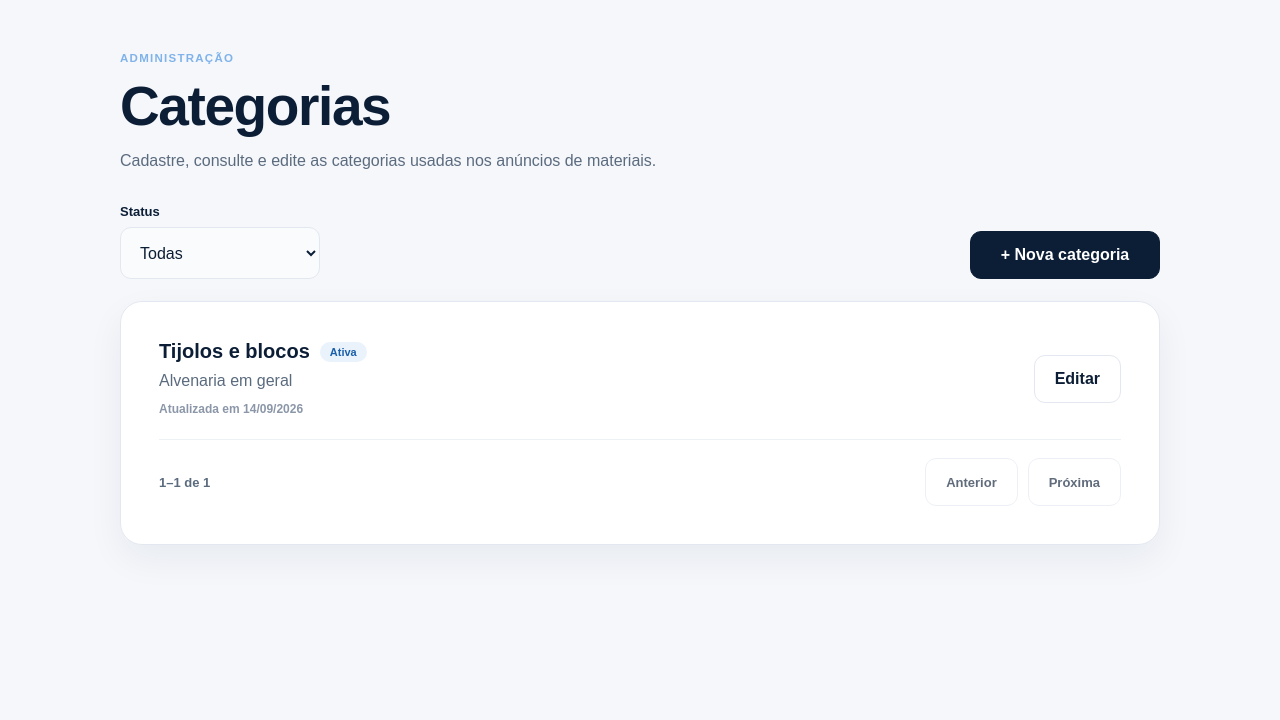
Test: CategoriasPage › edita enviando somente os campos alterados
Expected: the heading "Tijolos e blocos" is shown, [159, 340, 310, 363]
Click the button with aria-label "Editar Tijolos e blocos". click: (1077, 379)
box: [1034, 355, 1121, 403]
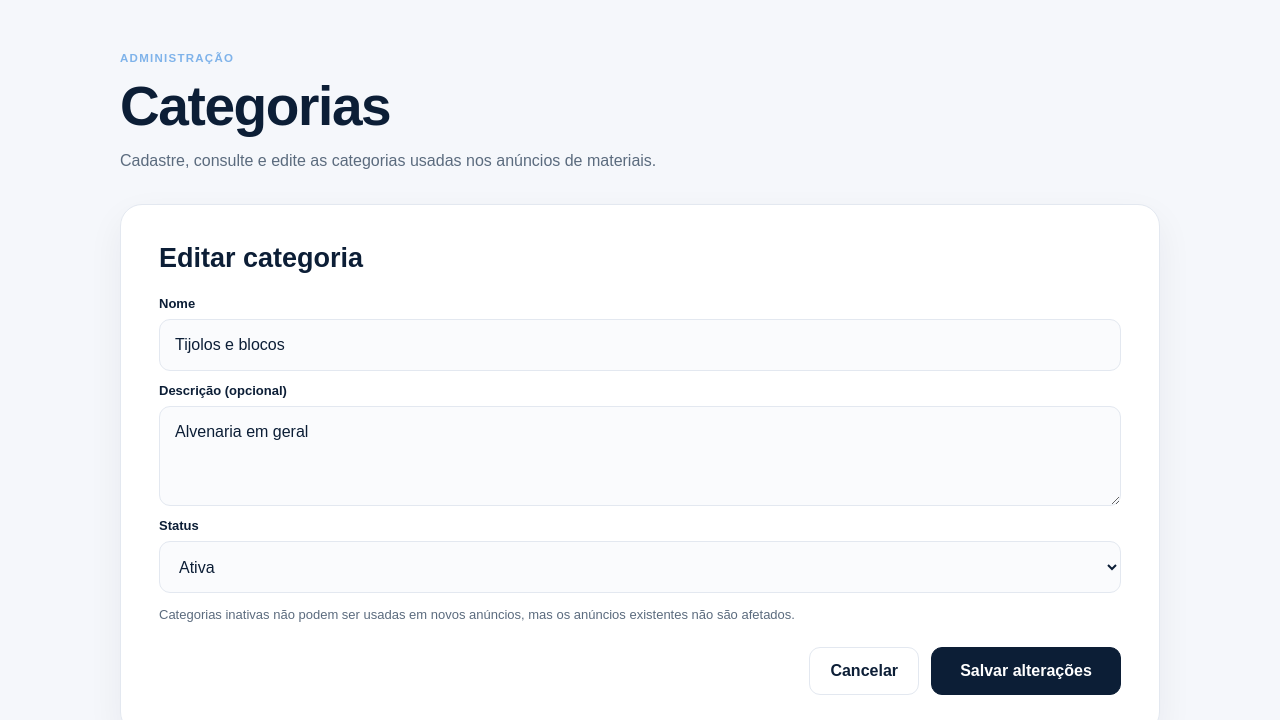
Result: the field labelled "Nome" holds "Tijolos e blocos"
Replace the text in the field labelled "Nome" with "Blocos". click: (640, 345)
box: [159, 319, 1121, 371]
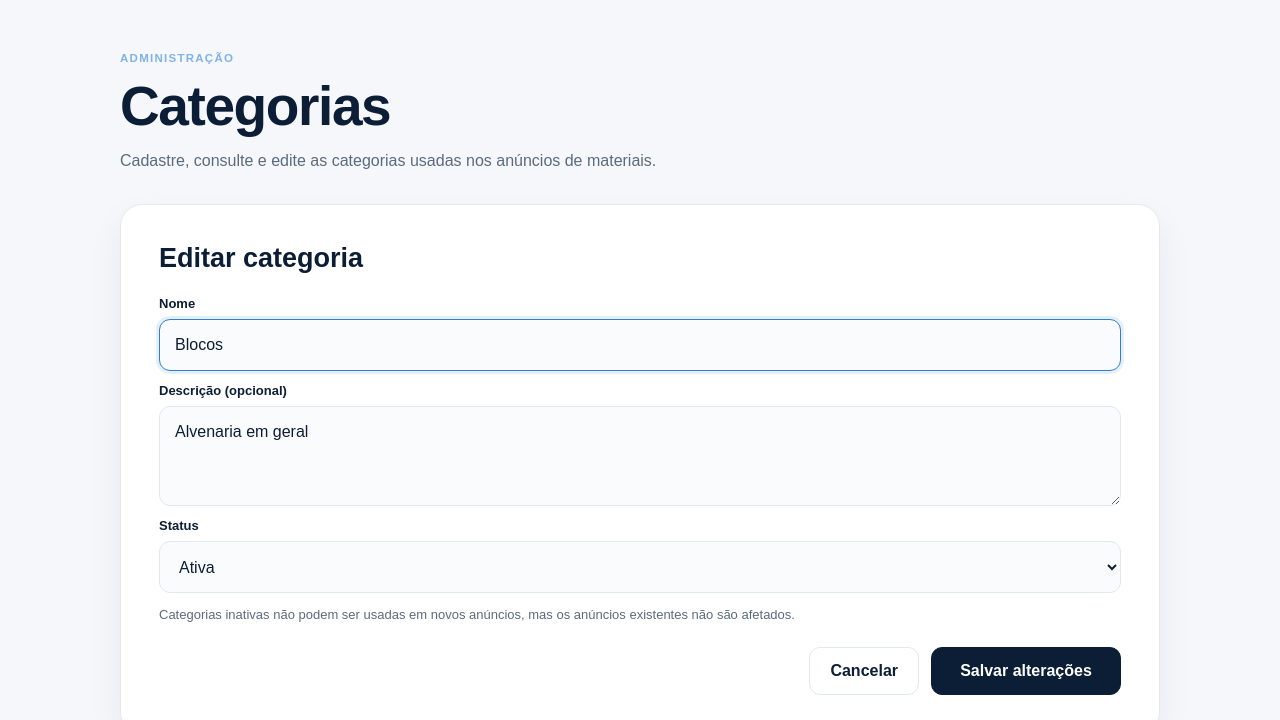
Select "Inativa" in the dropdown labelled "Status". click: (640, 567)
box: [159, 541, 1121, 593]
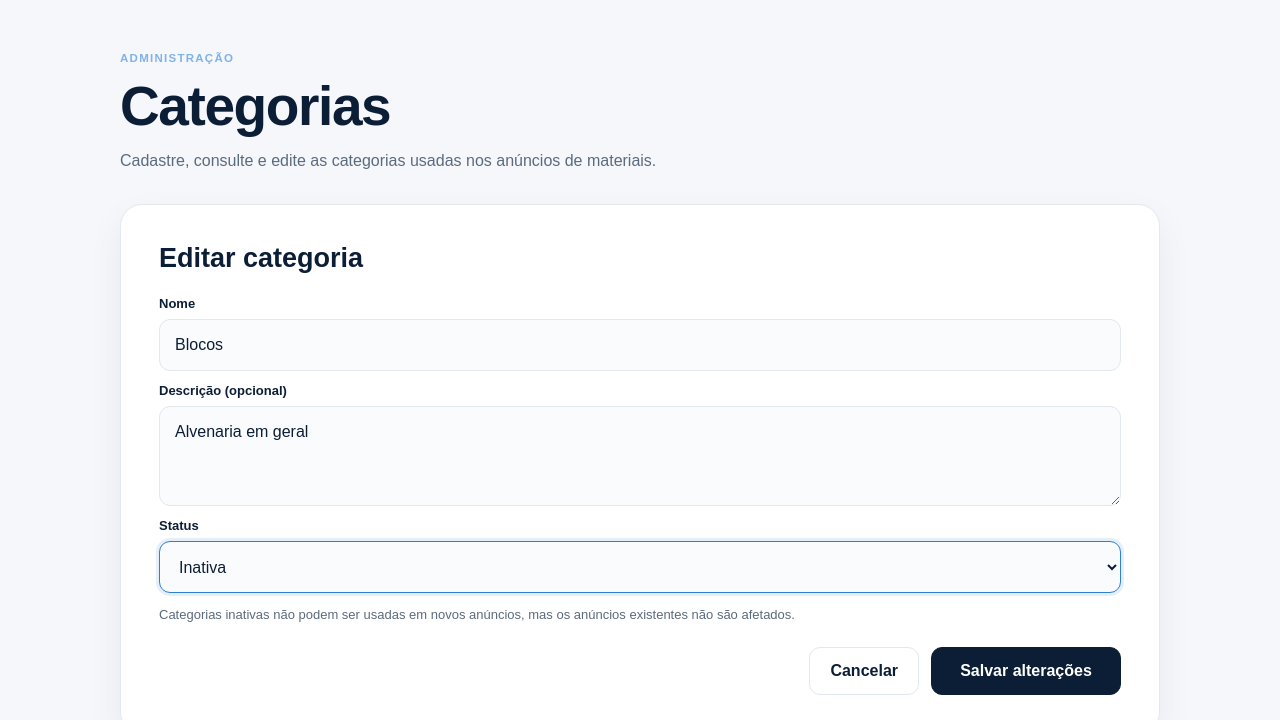
Click the button "Salvar alterações". click: (1026, 671)
box: [931, 647, 1121, 695]
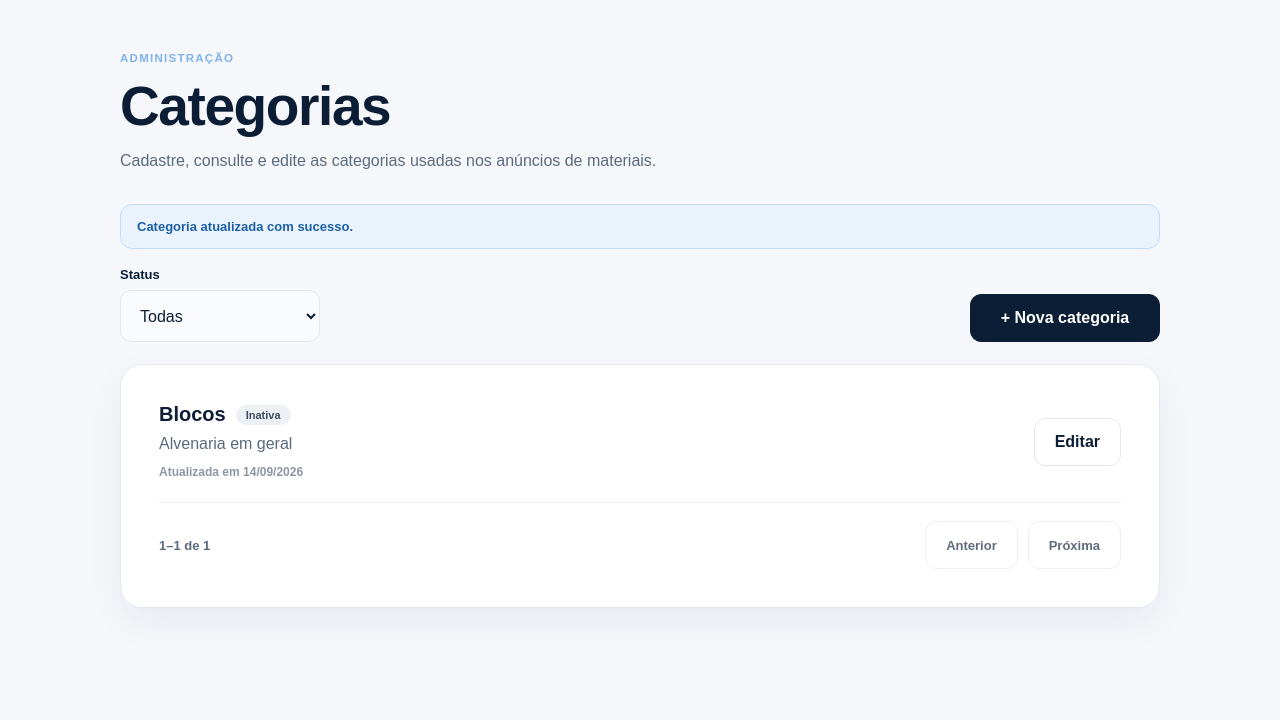
Expected: the heading "Blocos" is shown, [159, 403, 226, 426]
Result: the message reads "Categoria atualizada com sucesso." at [137, 219, 353, 234]
